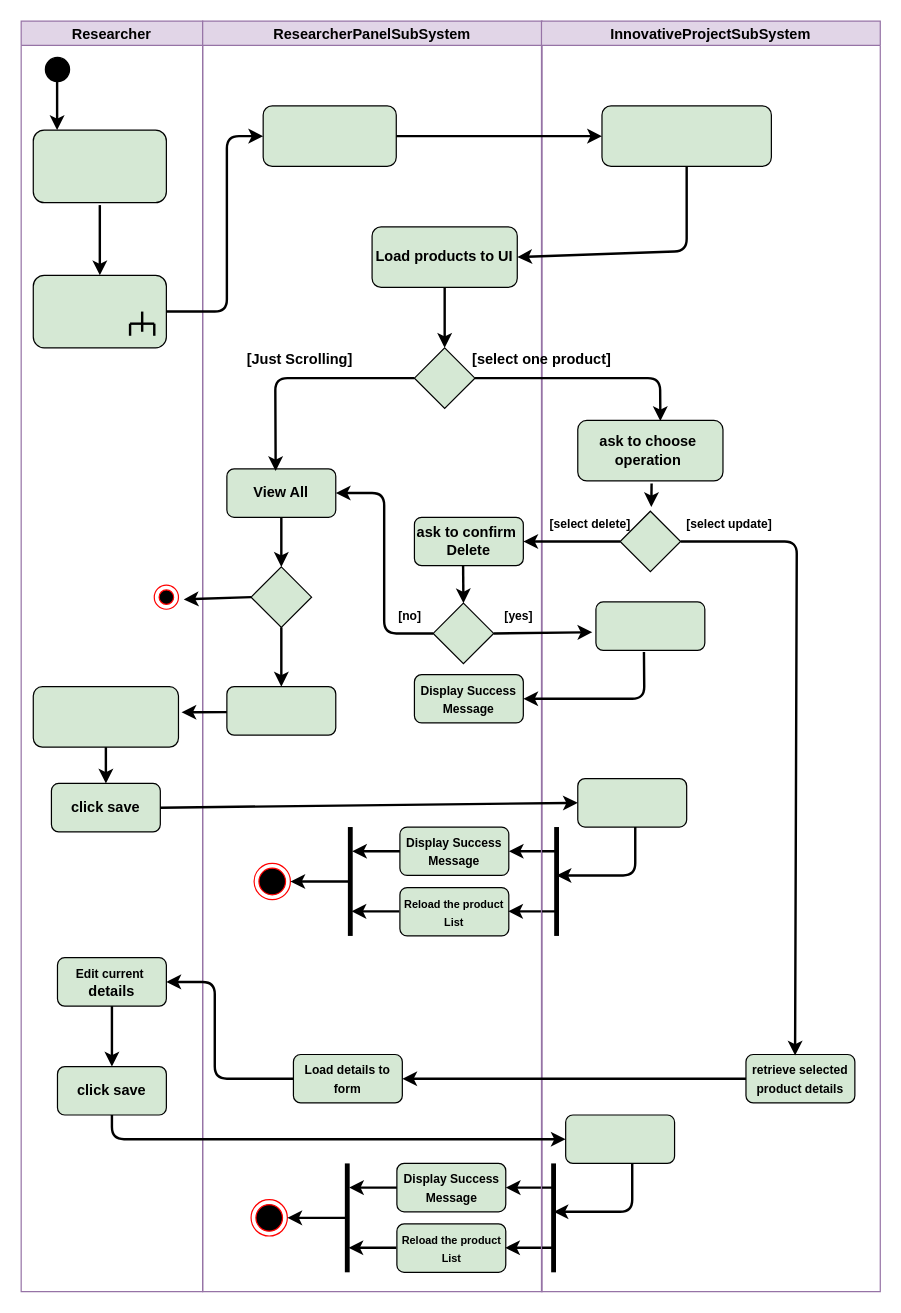
Image size: 901x1313. Some labels were removed from this diagram. Here are the shapes that lost their labels. From the top down, the centre of each, then its label:
At (329,135): "Redirect to researcher Panel".
At (686,135): "Retrieve All Innovative Products from DB".
At (99,166): "Click Login".
At (99,311): "Login".
At (650,625): "Remove from DB".
At (105,716): "Add details of innovative product".
At (281,710): "Load Form".
At (632,802): "Save to DB".
At (619,1138): "Update DB".
